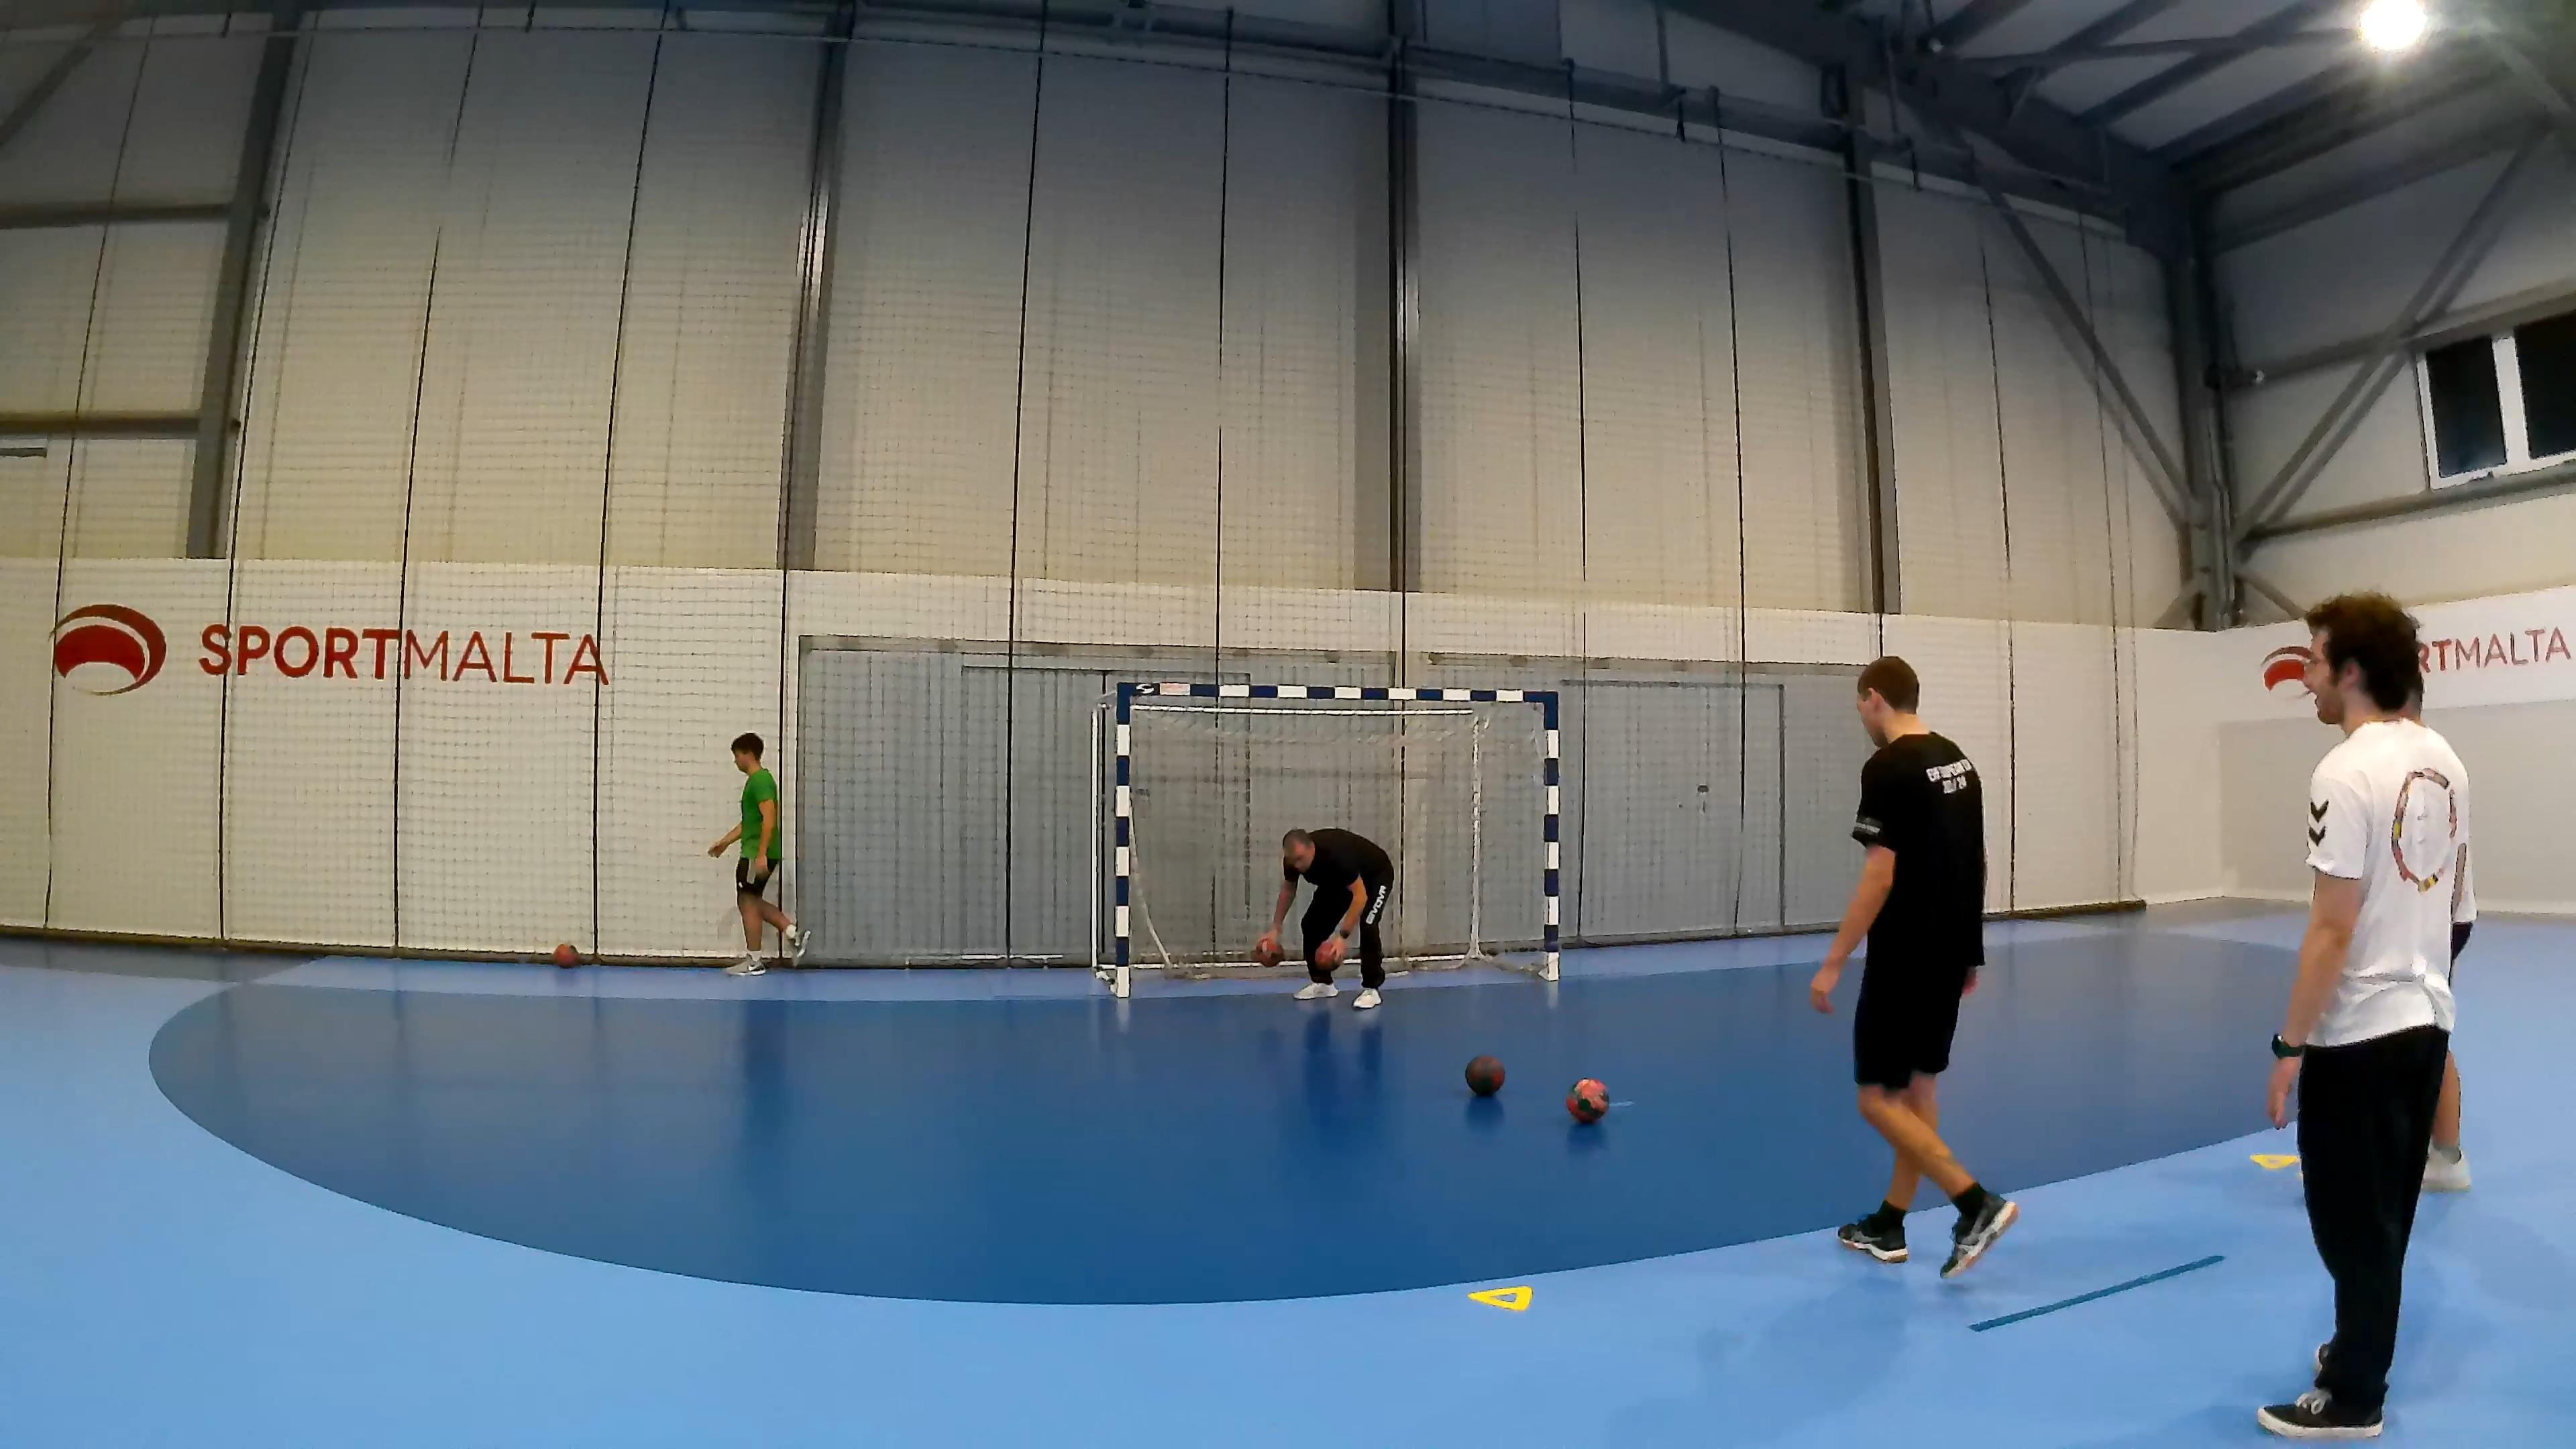handball: (1564, 1077, 1608, 1122), (1463, 1054, 1504, 1097), (1311, 941, 1346, 978), (548, 938, 580, 970), (1253, 938, 1283, 968)
